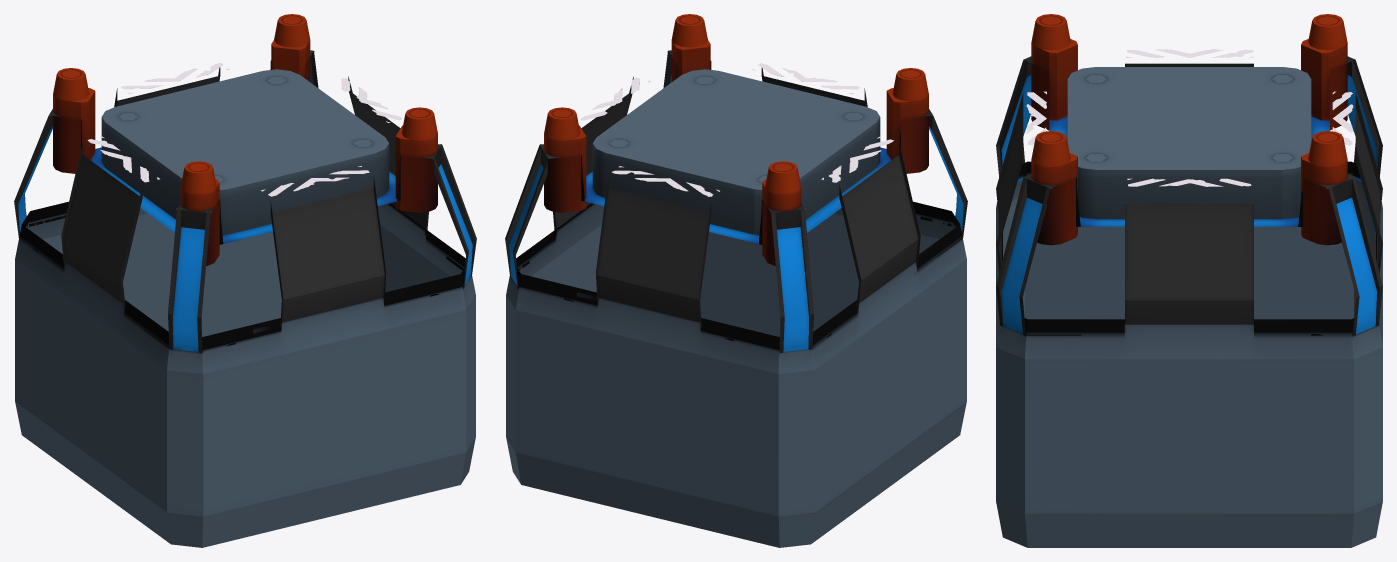
The model's file is furnace_tiny.fbx.
3 views of the same model, side by side, from view 1: azimuth 30°, elevation 25°; view 2: azimuth 150°, elevation 25°; view 3: azimuth 270°, elevation 25° (orthographic). The views are drawn at different scales.
Parts seen in each view (by area): view 1: obj_factory_furnace_01_lp; view 2: obj_factory_furnace_01_lp; view 3: obj_factory_furnace_01_lp.
Part boxes in pixels (<box>): obj_factory_furnace_01_lp: <box>14,14,476,547</box>; obj_factory_furnace_01_lp: <box>505,14,967,547</box>; obj_factory_furnace_01_lp: <box>996,14,1382,547</box>.
Size of the model in its own units: 1 by 1.11 by 1.
